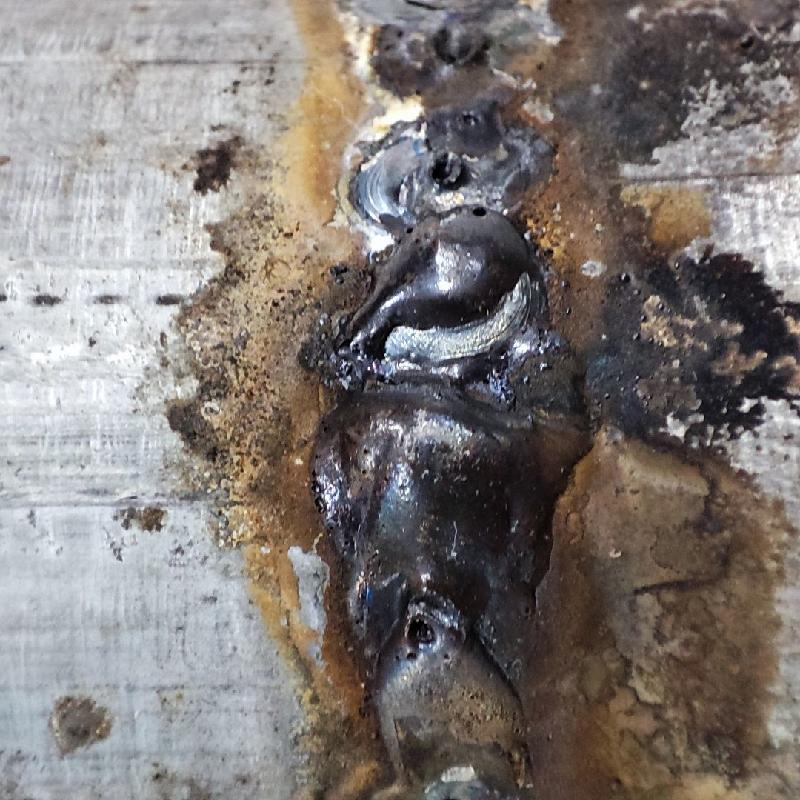Not_fully_soldered: (342, 3, 553, 215)
Surface_pores: (374, 602, 466, 671)
Weld: (315, 221, 573, 623)
